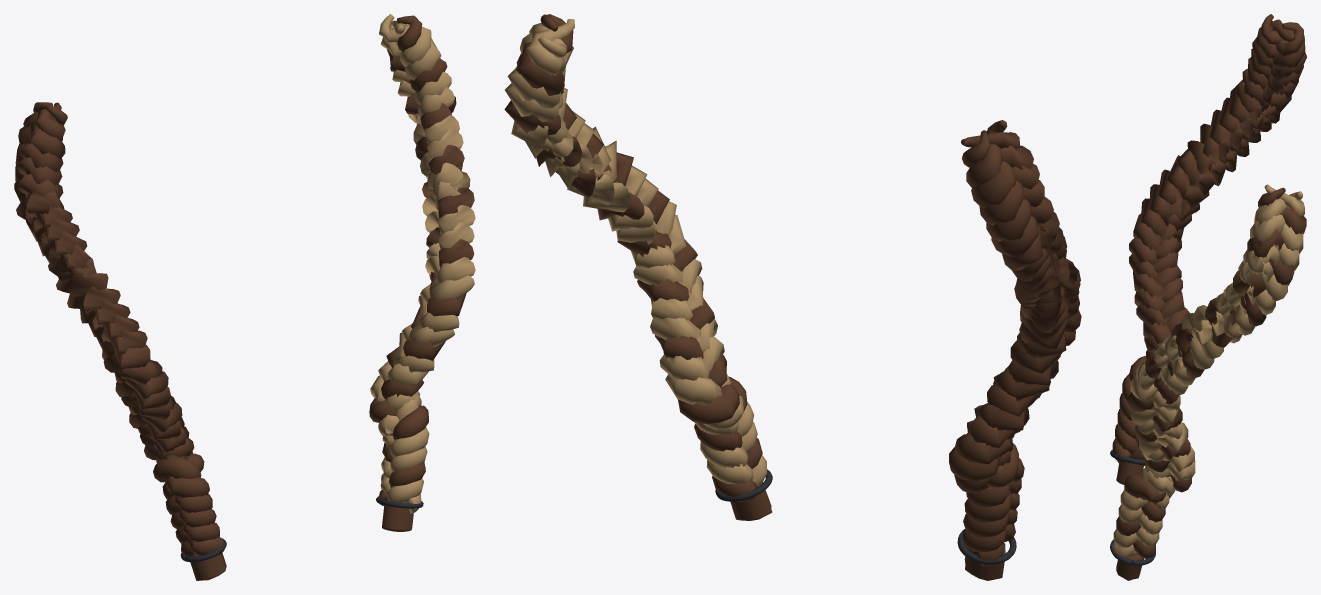
File: Highlights-0f9aaeaedf2b251-hair.glb
The picture shows the model from 3 angles, left to right: view 1: azimuth 30°, elevation 25°; view 2: azimuth 150°, elevation 25°; view 3: azimuth 270°, elevation 25°; orthographic projection. The views are drawn at different scales.
Visible parts, largest first — view 1: 226 hairLengths / Hair / chestnut226, 226 hairLengths / Hair / ties226; view 2: 226 hairLengths / Hair / chestnut226, 226 hairLengths / Hair / ties226; view 3: 226 hairLengths / Hair / chestnut226, 226 hairLengths / Hair / ties226.
Part boxes in pixels (x1,y1,x2,y2): 226 hairLengths / Hair / chestnut226: (14,14,475,580); 226 hairLengths / Hair / ties226: (180,496,423,562); 226 hairLengths / Hair / chestnut226: (504,14,1081,580); 226 hairLengths / Hair / ties226: (715,469,1016,564); 226 hairLengths / Hair / chestnut226: (1111,14,1306,580); 226 hairLengths / Hair / ties226: (1110,450,1155,565).
Size of the model in its own units: 1.09 by 1.05 by 0.4378.
